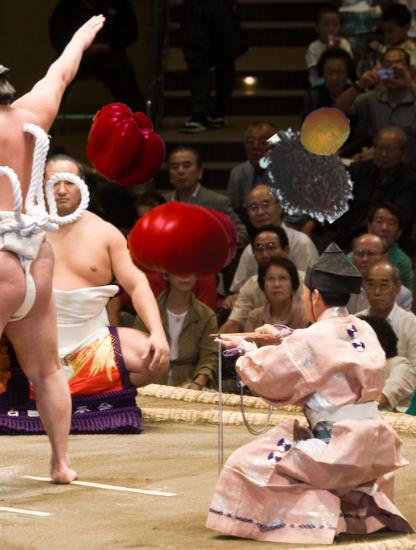Mandarine: (299, 105, 352, 158)
Pepper: (83, 104, 170, 191)
Rambutan: (253, 125, 358, 230)
Tomato: (127, 184, 240, 297)
